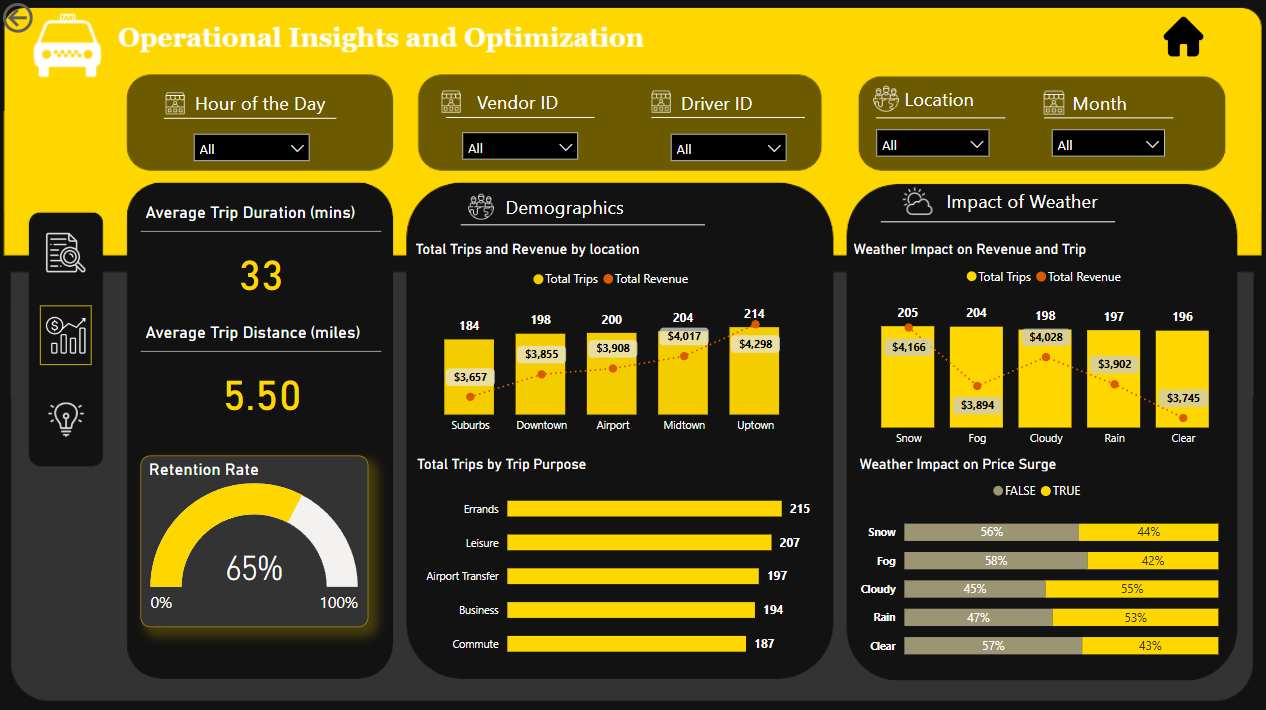

The page's visual inventory and layout, read from the dashboard file:
{"tool":"powerbi","page":{"name":"Operational breakdown","canvas":[1280,720],"ordinal":2},"visuals":[{"type":"slicer","fields":{"Values":["taxi_organization_data.driver_id"]},"box":[670,126.7,136.7,55],"z":0},{"type":"textbox","box":[684,88,174,42],"z":1000},{"type":"basicShape","box":[650,101.7,175,38.3],"z":2000},{"type":"slicer","fields":{"Values":["taxi_organization_data.vendor_id"]},"box":[458.9,126.1,136.7,55],"z":3000},{"type":"textbox","box":[478.3,86.7,133.3,35],"z":4000},{"type":"basicShape","box":[441.7,101.7,170,38.3],"z":5000},{"type":"textbox","box":[194,88,158,36],"z":6000},{"type":"basicShape","box":[158,102,194,40],"z":7000},{"type":"slicer","fields":{"Values":["taxi_organization_data.hour_of_day"]},"box":[188.3,126.7,136.7,55],"z":8000},{"type":"slicer","fields":{"Values":["taxi_organization_data.location"]},"box":[876,122,134,56],"z":9000},{"type":"textbox","box":[910,84,116,38],"z":10000},{"type":"basicShape","box":[876,106,150,30],"z":11000},{"type":"card","title":"Average Trip Duration (mins)","fields":{"Values":["taxi_organization_data.Avg. Trip Duration"]},"box":[143.3,206.7,243.3,103.3],"z":12000},{"type":"card","title":"Average Trip Distance (miles)","fields":{"Values":["taxi_organization_data.Avg. Trip Distance"]},"box":[143.3,326.7,243.3,103.3],"z":13000},{"type":"gauge","fields":{"Y":["taxi_organization_data.Retention Rate"]},"box":[143.3,461.7,230,173.3],"z":14000},{"type":"basicShape","box":[458,212,266,34],"z":15000},{"type":"textbox","box":[508,192,142,36],"z":16000},{"type":"lineClusteredColumnComboChart","title":"Total Trips and Revenue by location","fields":{"Category":["taxi_organization_data.location"],"Y":["taxi_organization_data.Total Trips"],"Y2":["taxi_organization_data.Total Revenue"]},"box":[416.7,245,408.3,203.3],"z":17000},{"type":"clusteredBarChart","title":"Total Trips by Trip Purpose","fields":{"Category":["taxi_organization_data.trip_purpose"],"Y":["taxi_organization_data.Total Trips"]},"box":[418.3,461.7,408.3,218.3],"z":18000},{"type":"lineClusteredColumnComboChart","title":"Weather Impact on Revenue and Trip","fields":{"Category":["taxi_organization_data.weather"],"Y":["taxi_organization_data.Total Trips"],"Y2":["taxi_organization_data.Total Revenue"]},"box":[858,246,398,216],"z":19000},{"type":"hundredPercentStackedBarChart","title":"Weather Impact on Price Surge","fields":{"Category":["taxi_organization_data.weather"],"Y":["CountNonNull(taxi_organization_data.surge_pricing)"],"Series":["taxi_organization_data.surge_pricing"]},"box":[864,462,372,218],"z":20000},{"type":"basicShape","box":[882,206,256,40],"z":21000},{"type":"textbox","box":[952,186,204,52],"z":22000},{"type":"image","box":[446,192,82,36],"z":23000},{"type":"image","box":[898,184,60,40],"z":24000},{"type":"image","box":[42,310,52,60],"z":25000},{"type":"image","box":[42,232,52,50],"z":26000},{"type":"image","box":[42,402,52,48],"z":27000},{"type":"image","box":[1162,14,70,50],"z":28000},{"type":"image","box":[144,88,70,36],"z":29000},{"type":"image","box":[422,86,70,36],"z":30000},{"type":"image","box":[634,86,70,36],"z":31000},{"type":"actionButton","box":[0,0,100,40],"z":32000},{"type":"slicer","fields":{"Values":["DateCalendar.Month Name"]},"box":[1054,122,134,56],"z":33000},{"type":"textbox","box":[1080,88,116,38],"z":34000},{"type":"basicShape","box":[1046,106,150,30],"z":35000},{"type":"image","box":[1026,86,78,38],"z":36000},{"type":"image","box":[856,84,82,36],"z":37000}]}

Visuals, with their boxes in screenshot pixels (x1, y1, x2, y2), scaled from the page's 1280x720 canvas onto the 1266x710 screenshot:
slicer - taxi_organization_data.driver_id: BBox(663, 125, 798, 179)
textbox: BBox(677, 87, 849, 128)
basicShape: BBox(643, 100, 816, 138)
slicer - taxi_organization_data.vendor_id: BBox(454, 124, 589, 179)
textbox: BBox(473, 85, 605, 120)
basicShape: BBox(437, 100, 605, 138)
textbox: BBox(192, 87, 348, 122)
basicShape: BBox(156, 101, 348, 140)
slicer - taxi_organization_data.hour_of_day: BBox(186, 125, 321, 179)
slicer - taxi_organization_data.location: BBox(866, 120, 999, 176)
textbox: BBox(900, 83, 1015, 120)
basicShape: BBox(866, 105, 1015, 134)
"Average Trip Duration (mins)" card: BBox(142, 204, 382, 306)
"Average Trip Distance (miles)" card: BBox(142, 322, 382, 424)
gauge - taxi_organization_data.Retention Rate: BBox(142, 455, 369, 626)
basicShape: BBox(453, 209, 716, 243)
textbox: BBox(502, 189, 643, 225)
"Total Trips and Revenue by location" lineClusteredColumnComboChart: BBox(412, 242, 816, 442)
"Total Trips by Trip Purpose" clusteredBarChart: BBox(414, 455, 818, 671)
"Weather Impact on Revenue and Trip" lineClusteredColumnComboChart: BBox(849, 243, 1242, 456)
"Weather Impact on Price Surge" hundredPercentStackedBarChart: BBox(855, 456, 1222, 671)
basicShape: BBox(872, 203, 1126, 243)
textbox: BBox(942, 183, 1143, 235)
image: BBox(441, 189, 522, 225)
image: BBox(888, 181, 948, 221)
image: BBox(42, 306, 93, 365)
image: BBox(42, 229, 93, 278)
image: BBox(42, 396, 93, 444)
image: BBox(1149, 14, 1219, 63)
image: BBox(142, 87, 212, 122)
image: BBox(417, 85, 487, 120)
image: BBox(627, 85, 696, 120)
actionButton: BBox(0, 0, 99, 39)
slicer - DateCalendar.Month Name: BBox(1042, 120, 1175, 176)
textbox: BBox(1068, 87, 1183, 124)
basicShape: BBox(1035, 105, 1183, 134)
image: BBox(1015, 85, 1092, 122)
image: BBox(847, 83, 928, 118)
